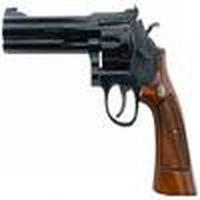gun: (1, 12, 198, 200)
